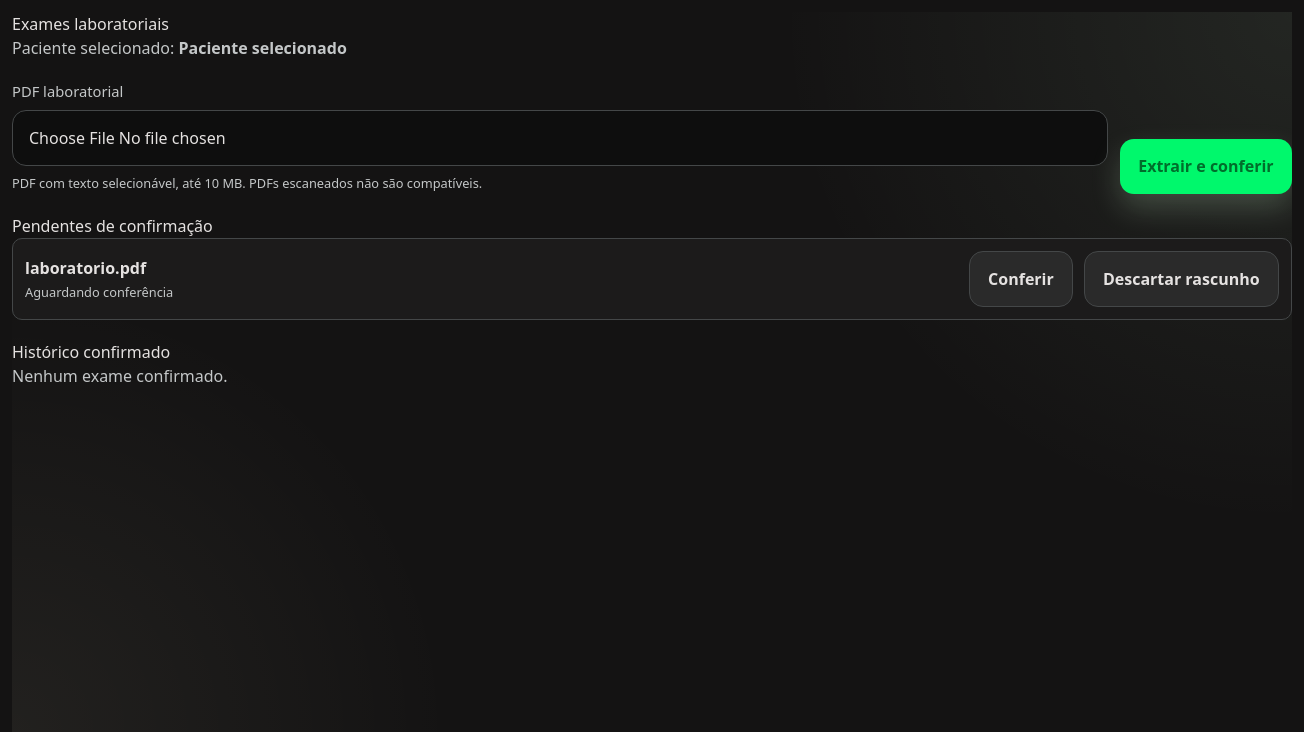
descartar remove pendência sem criar exame no histórico
What coordinates should you click on to do the following:
click the button "Descartar rascunho"
I would click on:
 (1181, 279)
Its box is [1084, 251, 1279, 307].
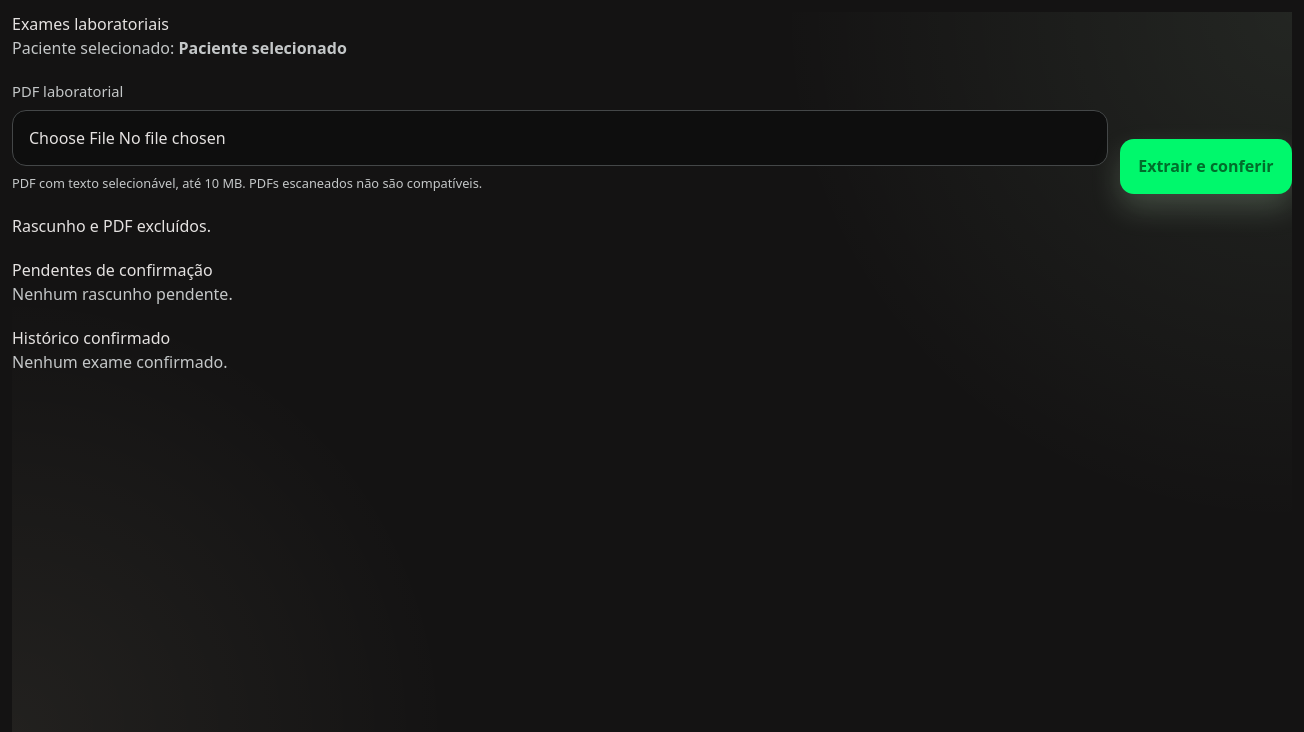
Expected: the text "Nenhum exame confirmado" is shown, [12, 351, 228, 373]
Expected: the text "Rascunho e PDF excluídos" is shown, [12, 215, 211, 237]
